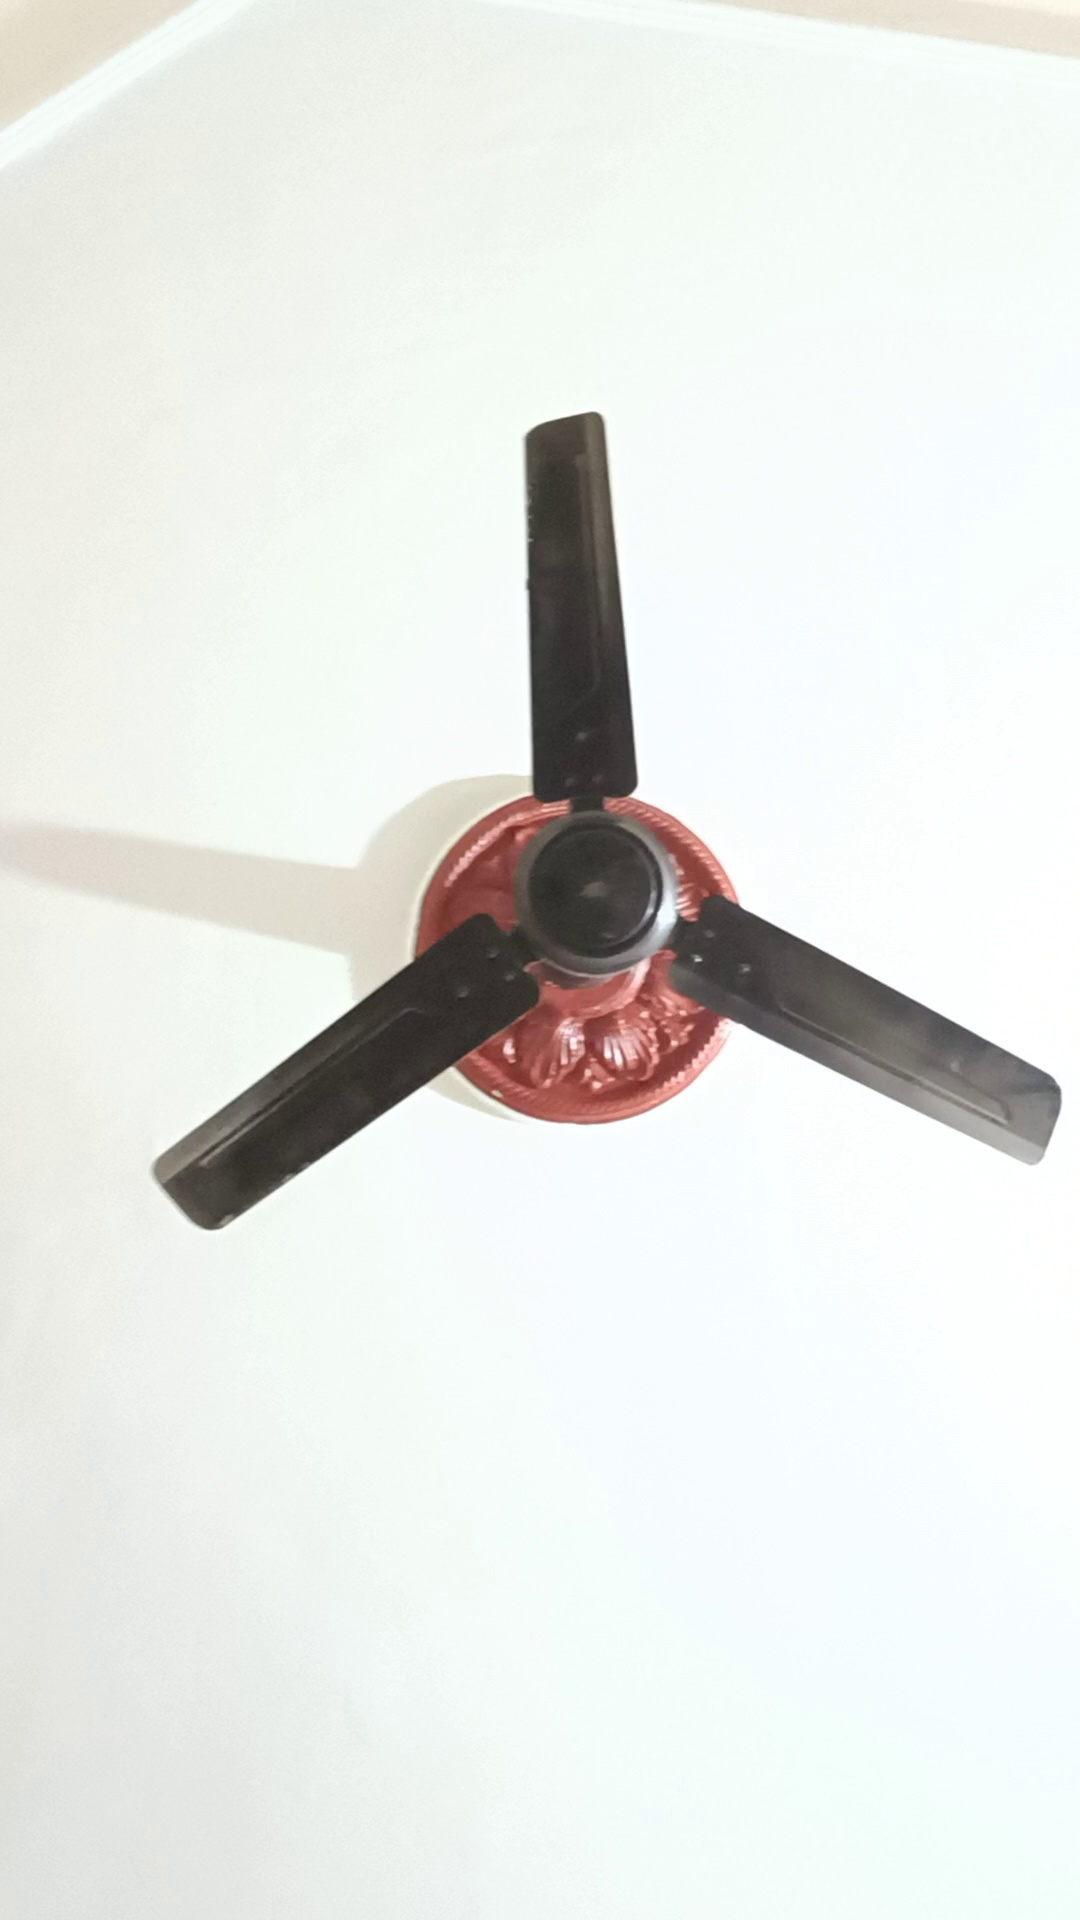fan: (185, 311, 1069, 1333)
